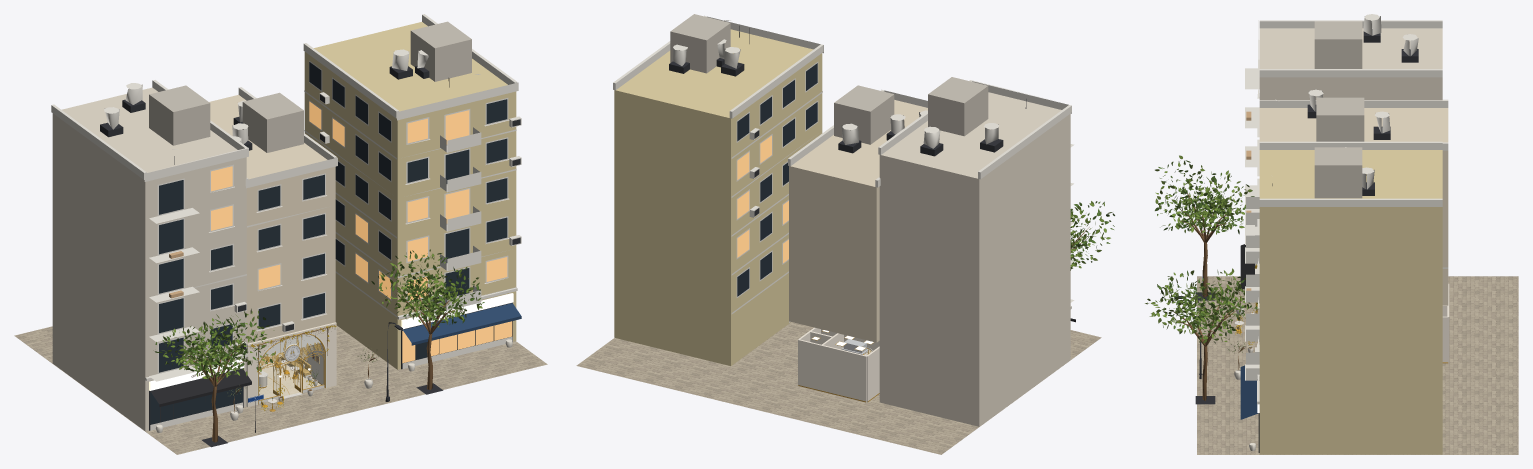
Rendered from salon-75_lod2.glb.
3 renders of one model, left to right at view 1: azimuth 30°, elevation 25°; view 2: azimuth 150°, elevation 25°; view 3: azimuth 270°, elevation 25°, orthographic.
Visible parts, largest first — view 1: bw1, bw4, bwtrim, win, paving, facade_hi, bw3, win_lit_n, leaf, leaf2, iron, aw_b (+8 smaller); view 2: bw1, bw4, facade_hi, paving, bwtrim, bw3, plaster, win, iron, win_lit_n, leaf; view 3: bw4, paving, bwtrim, bw1, bw3, facade_hi, leaf, leaf2, iron, trunk, aw_b, plaster.
Part boxes in pixels (box(x1,y1,x2,y2)): bw1: box(52, 87, 246, 431); bw4: box(304, 22, 516, 369); bwtrim: box(51, 14, 521, 430); win: box(150, 62, 507, 424); paving: box(14, 325, 547, 454); facade_hi: box(209, 95, 335, 343); bw3: box(149, 21, 471, 152); win_lit_n: box(211, 101, 512, 363); leaf: box(153, 249, 482, 382); leaf2: box(155, 251, 484, 399); iron: box(100, 65, 520, 447); aw_b: box(403, 303, 521, 345); bw1: box(879, 92, 1070, 426); bw4: box(614, 29, 822, 365); facade_hi: box(789, 100, 927, 342); paving: box(576, 322, 1101, 454); bwtrim: box(613, 16, 1074, 322); bw3: box(670, 14, 988, 144); plaster: box(798, 327, 879, 402); win: box(737, 63, 817, 296); iron: box(669, 20, 1026, 216); win_lit_n: box(737, 135, 788, 262); leaf: box(1070, 201, 1112, 269); bw4: box(1259, 150, 1442, 454); paving: box(1197, 276, 1518, 454); bwtrim: box(1245, 14, 1448, 404); bw1: box(1259, 28, 1442, 100); bw3: box(1314, 21, 1364, 198); facade_hi: box(1259, 108, 1448, 305); leaf: box(1145, 155, 1258, 343); leaf2: box(1151, 160, 1258, 343); iron: box(1174, 29, 1418, 452); trunk: box(1172, 185, 1256, 400); aw_b: box(1240, 365, 1258, 419); plaster: box(1442, 283, 1449, 362).
Bounding box in the file's own units: 30.89 × 22.09 × 26.6.
Materials: 70 (21 with a texture image).
